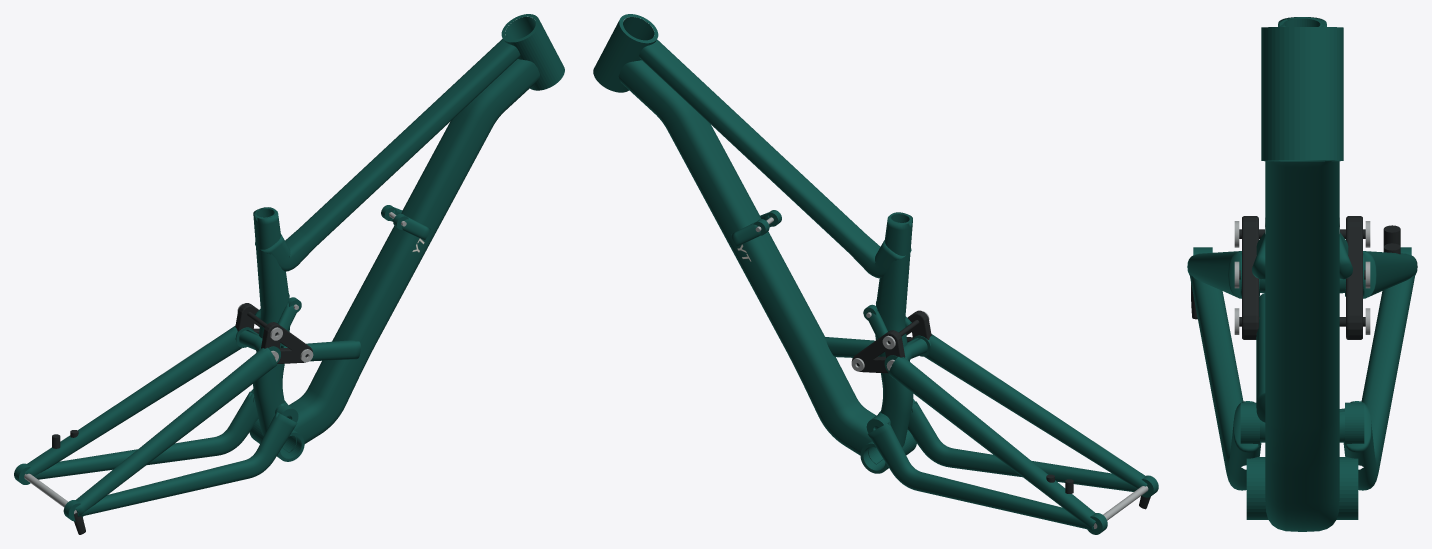
File: yt-capra-mk3-carbon-mx--l.glb
3 views of the same model, side by side, from view 1: azimuth 30°, elevation 25°; view 2: azimuth 150°, elevation 25°; view 3: azimuth 270°, elevation 25° (orthographic). The views are drawn at different scales.
Visible parts, largest first — view 1: yt-capra-mk3-carbon-mx__paint_0, yt-capra-mk3-carbon-mx__detail_1, yt-capra-mk3-carbon-mx__detail_2; view 2: yt-capra-mk3-carbon-mx__paint_0, yt-capra-mk3-carbon-mx__detail_1, yt-capra-mk3-carbon-mx__detail_2; view 3: yt-capra-mk3-carbon-mx__paint_0, yt-capra-mk3-carbon-mx__detail_1, yt-capra-mk3-carbon-mx__detail_2.
Boxes of the visible parts, <box> form: yt-capra-mk3-carbon-mx__paint_0: <box>14,14,564,521</box>; yt-capra-mk3-carbon-mx__detail_1: <box>52,303,312,534</box>; yt-capra-mk3-carbon-mx__detail_2: <box>24,212,406,513</box>; yt-capra-mk3-carbon-mx__paint_0: <box>593,14,1158,534</box>; yt-capra-mk3-carbon-mx__detail_1: <box>851,310,1150,509</box>; yt-capra-mk3-carbon-mx__detail_2: <box>755,217,1148,528</box>; yt-capra-mk3-carbon-mx__paint_0: <box>1187,17,1417,531</box>; yt-capra-mk3-carbon-mx__detail_1: <box>1191,216,1400,339</box>; yt-capra-mk3-carbon-mx__detail_2: <box>1234,218,1370,334</box>.
Bounding box in the file's own units: 0.9917 × 0.6938 × 0.1899.
5 materials, 2 textured.
